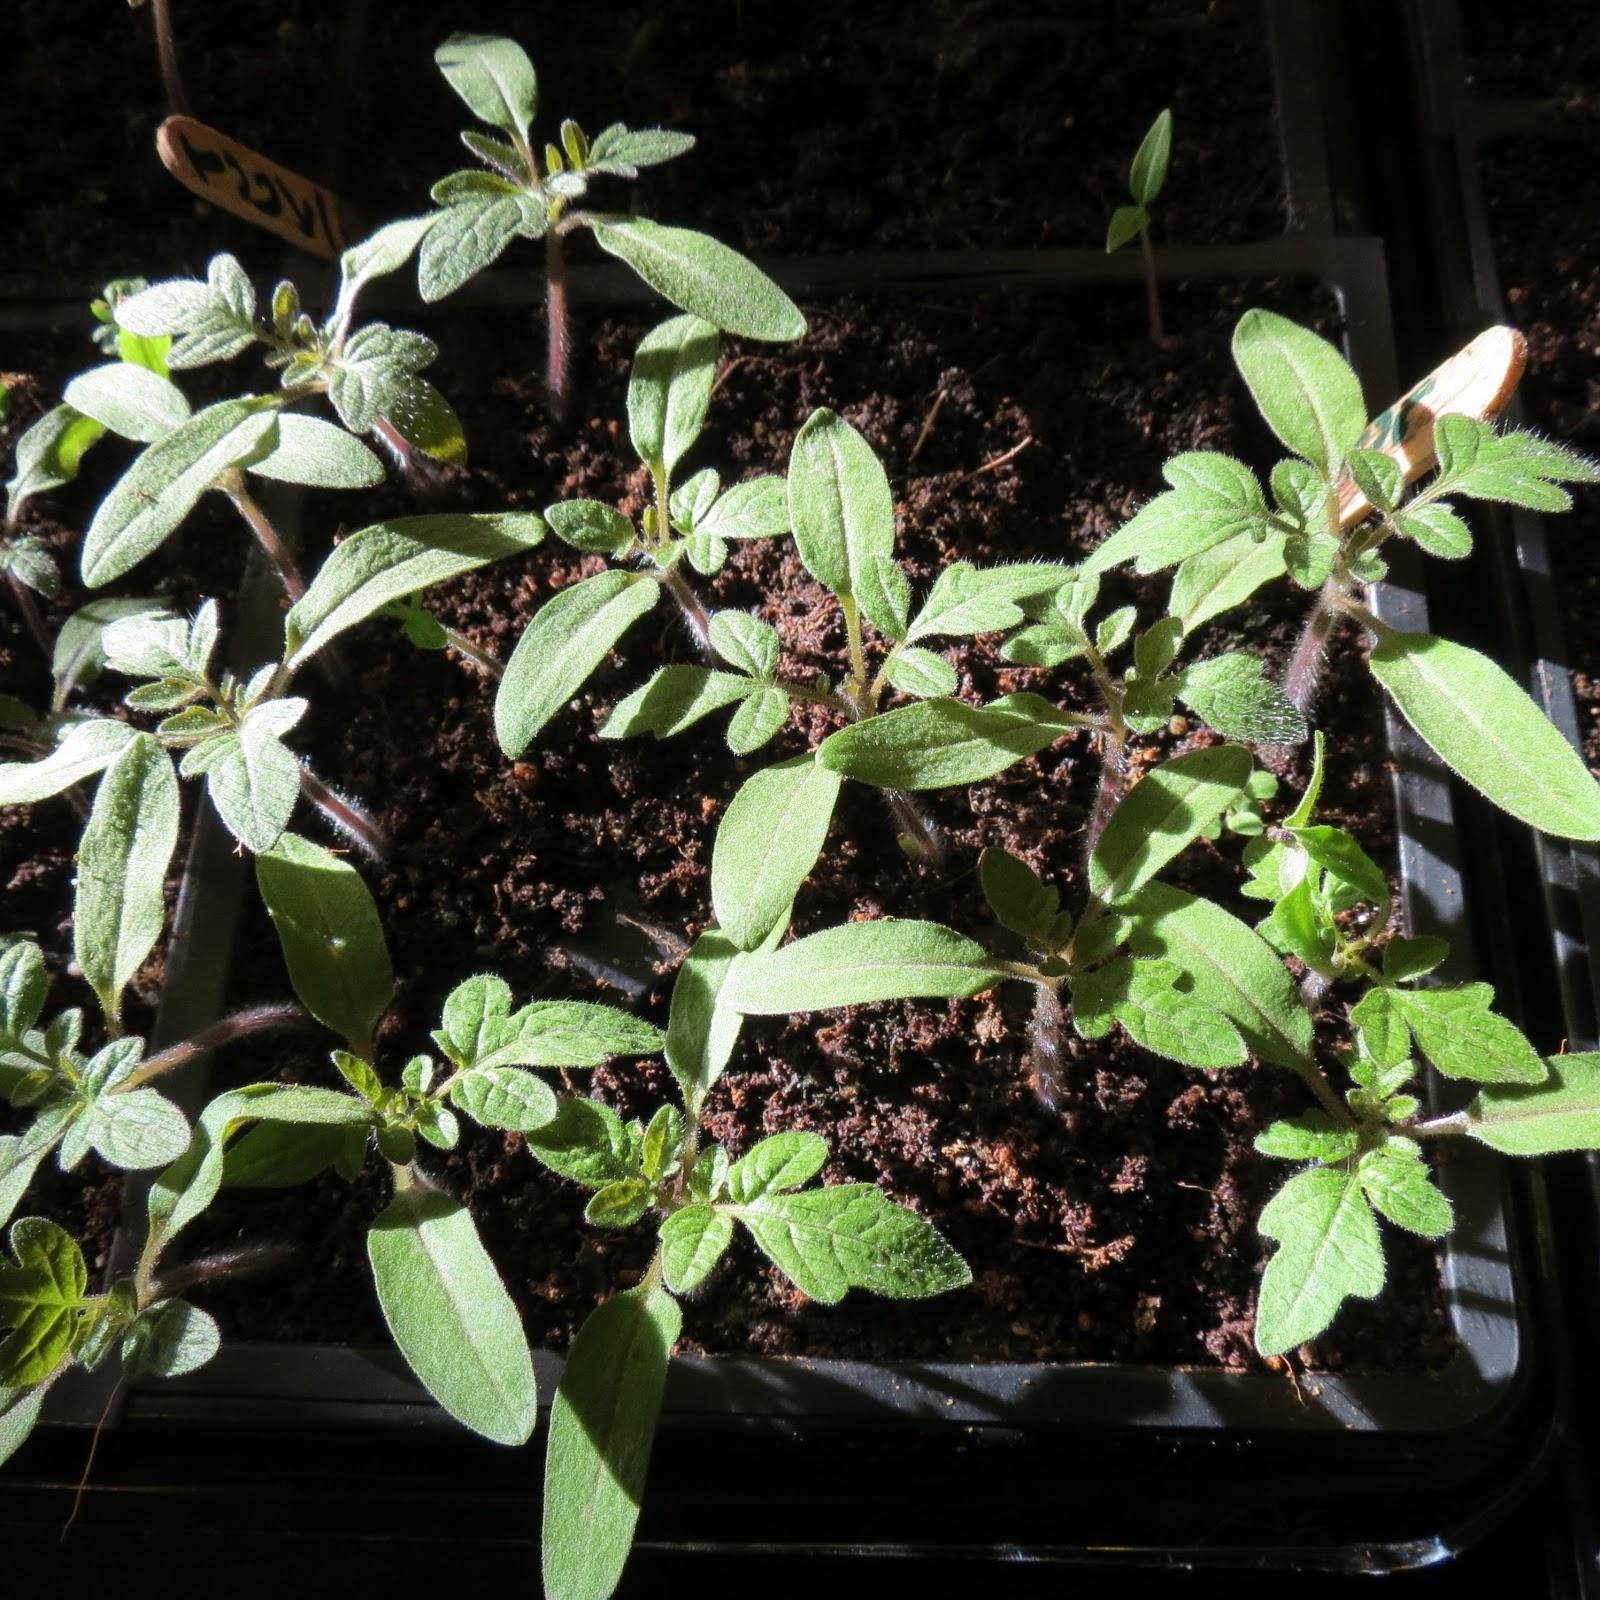Tomato leaf: (1217, 1107, 1452, 1377), (357, 1150, 542, 1460), (522, 1282, 698, 1600), (1384, 612, 1599, 865), (66, 374, 308, 595), (38, 707, 187, 1060), (240, 819, 412, 1112), (487, 533, 680, 774), (405, 964, 668, 1139), (268, 509, 561, 658), (556, 198, 812, 356), (749, 1179, 984, 1346), (1340, 407, 1589, 551), (705, 733, 859, 953), (1080, 751, 1254, 942), (1229, 281, 1375, 505), (712, 914, 1001, 1026), (1066, 449, 1273, 598), (785, 381, 903, 626), (610, 307, 740, 512), (433, 23, 568, 204), (419, 165, 552, 323), (1368, 965, 1536, 1074)
